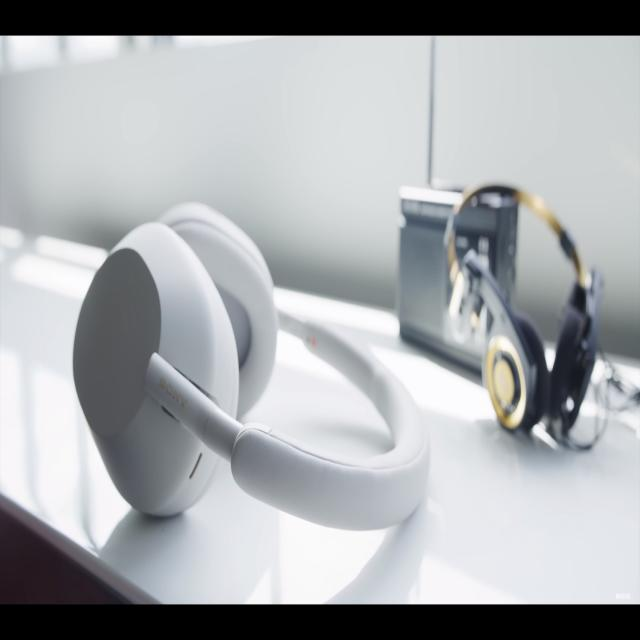Headphone: (71, 201, 434, 534)
